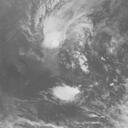cyclone: (30, 11, 67, 49)
